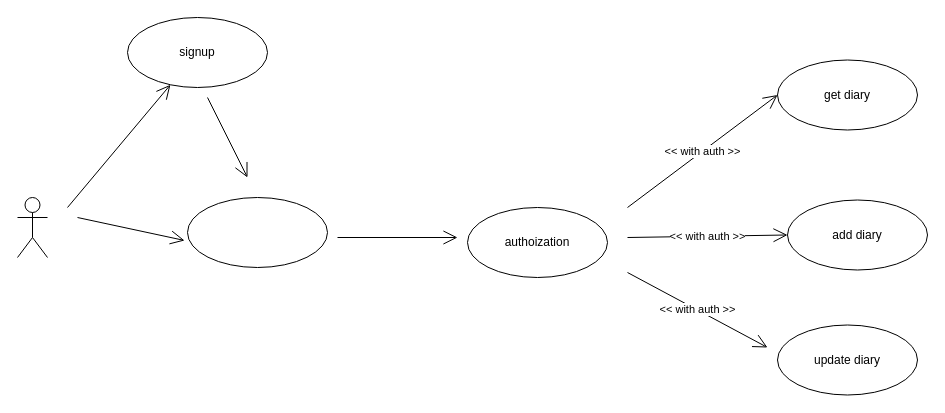
This 945x413 diagram has some shape labels left out. The centre of each missing label's shape, as x and y in pixels:
login: (x=257, y=232)
user: (x=32, y=227)
